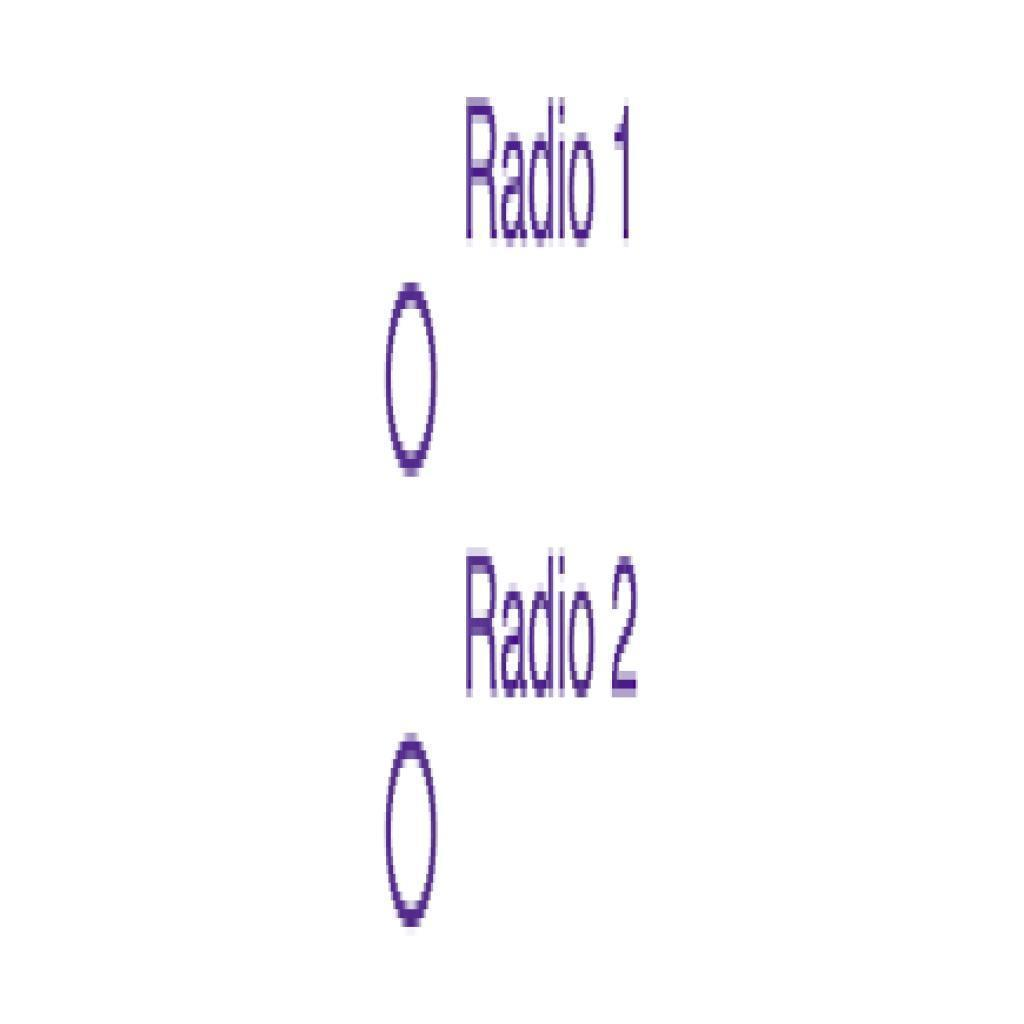radio: (378, 275, 443, 474), (379, 730, 443, 925)
